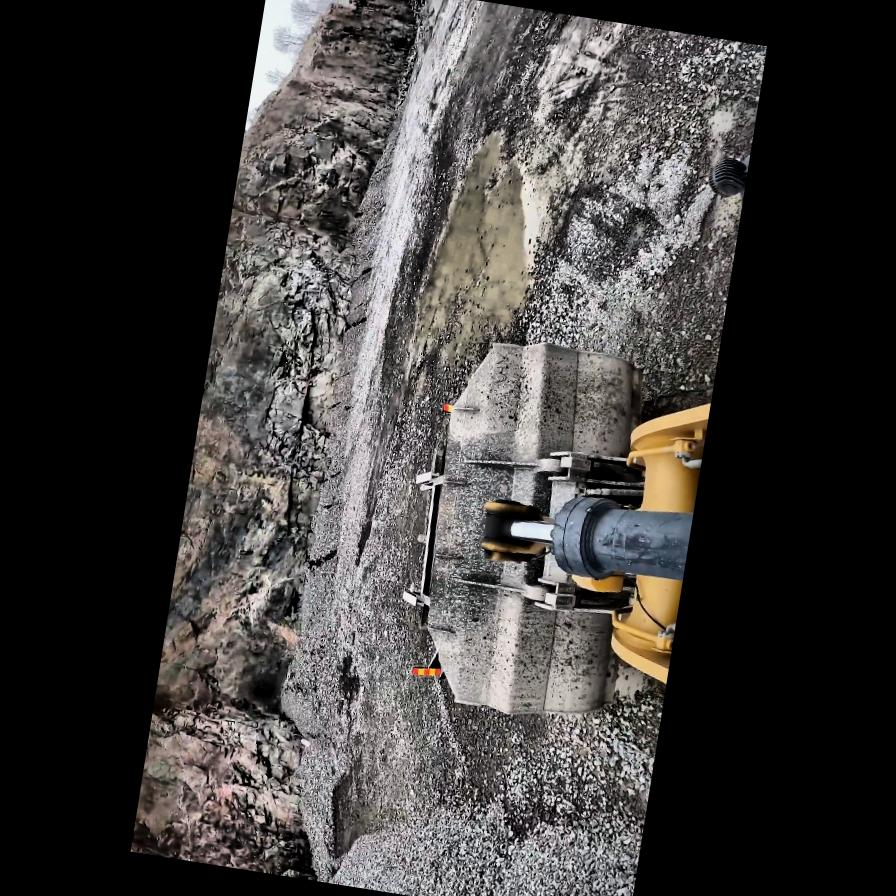anchor: (474, 493, 552, 565)
pile of gravel: (311, 755, 645, 896), (417, 0, 458, 20)
